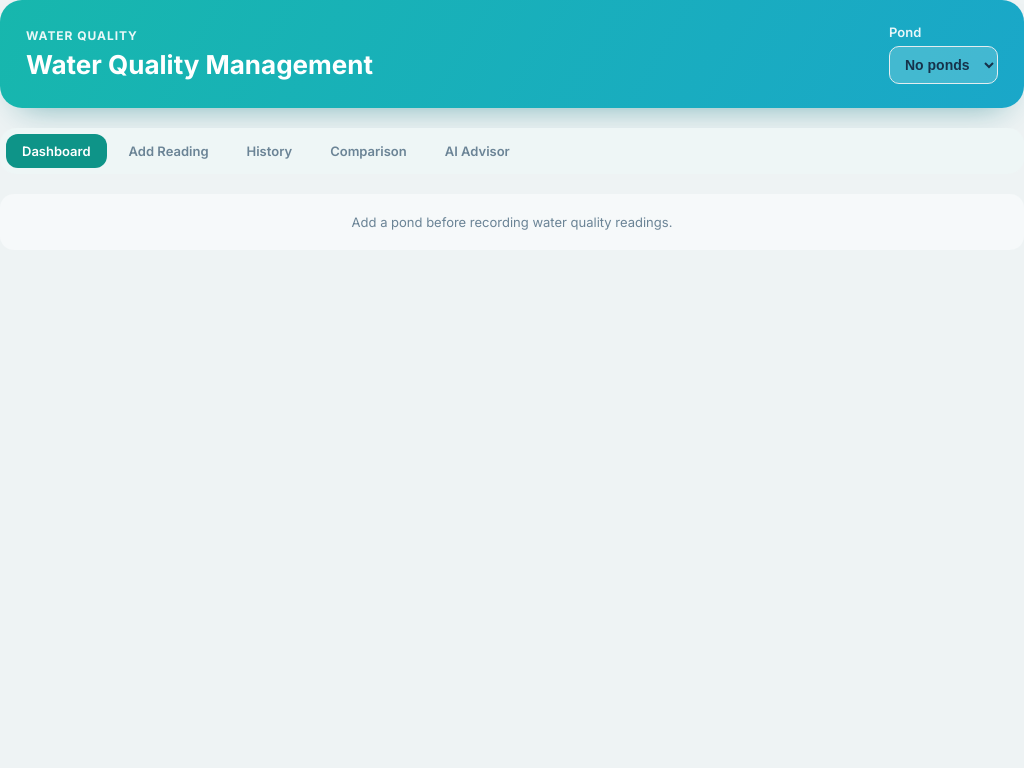
WaterQualityManagement › shows AI recommendations and danger solutions
This screenshot has width=1024, height=768.
Check: the heading "Water Quality Management" is shown, box [26,49,373,80]
Click the button "AI Advisor": (477,151) [429,134,526,168]
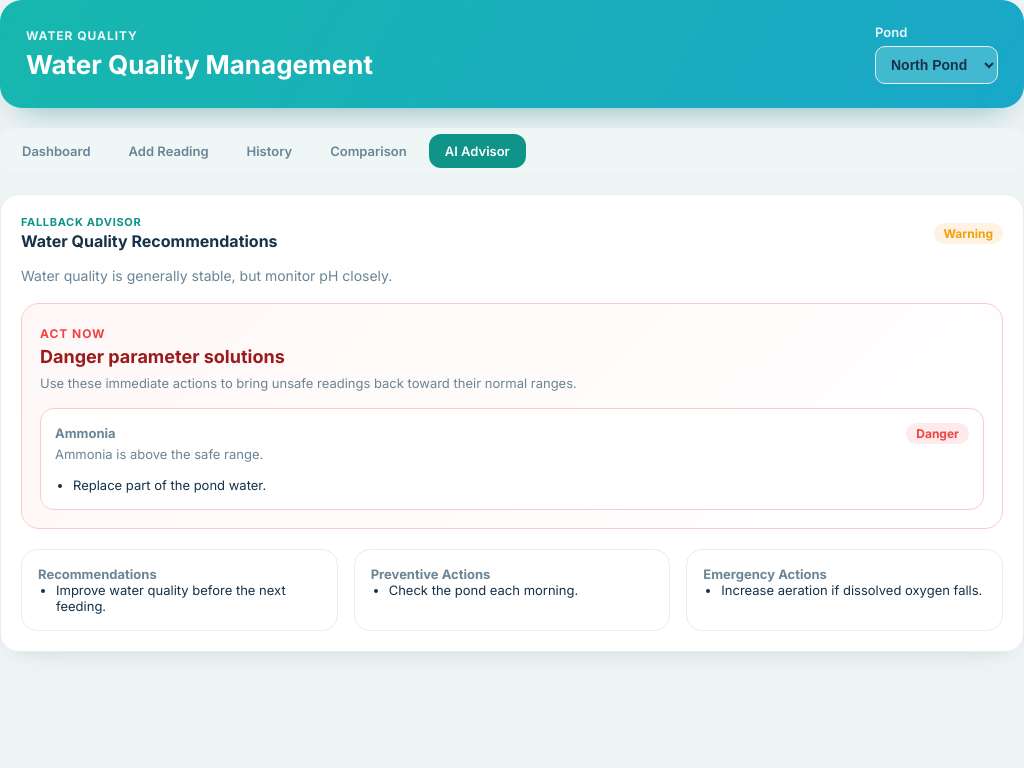
Check: the heading "Water Quality Recommendations" is shown, box [21,231,278,251]
Check: the list item "Improve water quality before the next feeding." is shown, box [56,582,321,614]
Check: the heading "Danger parameter solutions" is shown, box [40,346,285,367]
